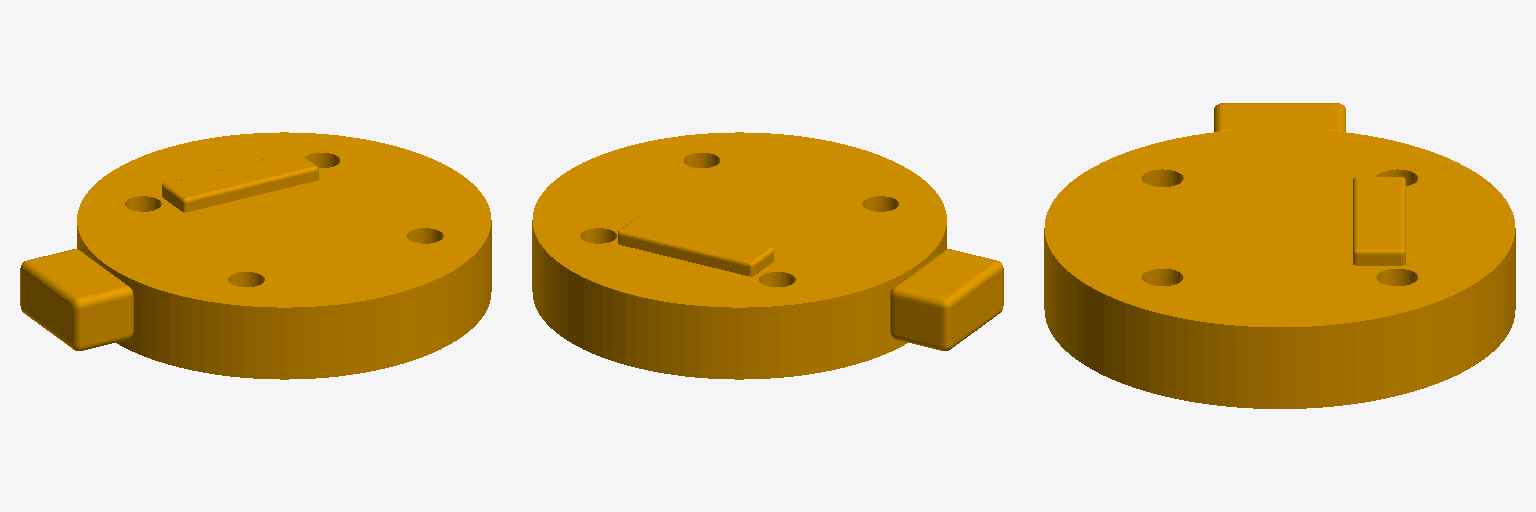
The robot description file, URDF, robot "onrobot_quick_changer_109498":
<?xml version="1.0"?>
<robot name="onrobot_quick_changer_109498">
<link name="mount"><visual ><geometry ><mesh filename="../meshes/mount.obj"/></geometry></visual><collision ><origin xyz="0 0 0.0068" rpy="0 0 0"/><geometry ><cylinder radius="0.0355" length="0.0136"/></geometry></collision></link>
<link name="flange"></link>
<joint name="flange_joint" type="fixed"><parent link="mount"/><child link="flange"/><origin xyz="0 0 0.0136" rpy="0 0 0"/></joint>
</robot>

--- What the picture shows (computed from the rendered views, not written in the file) ---
Views: 3 orthographic renders of the robot side by side, from view 1: azimuth 30°, elevation 25°; view 2: azimuth 150°, elevation 25°; view 3: azimuth 270°, elevation 25°.
Model onrobot_quick_changer_109498 with 2 links and 1 joints (1 fixed), rooted at mount, posed every joint at zero.
Links seen in each view (by area): view 1: mount; view 2: mount; view 3: mount.
Link boxes in pixels (<box>): mount: <box>20,132,491,379</box>; mount: <box>532,132,1003,379</box>; mount: <box>1044,103,1515,408</box>.
Bounding box of the posed robot: 0.0825 × 0.071 × 0.0161 m (x, y, z).
1 mesh visuals loaded from 1 distinct referenced files (1 OBJ).
